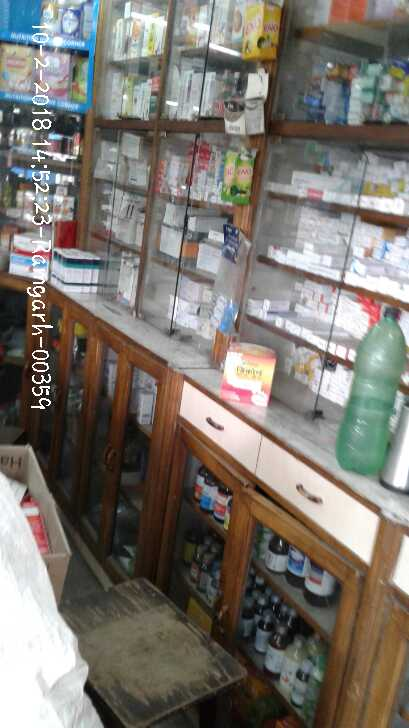reject: (122, 140, 240, 402)
